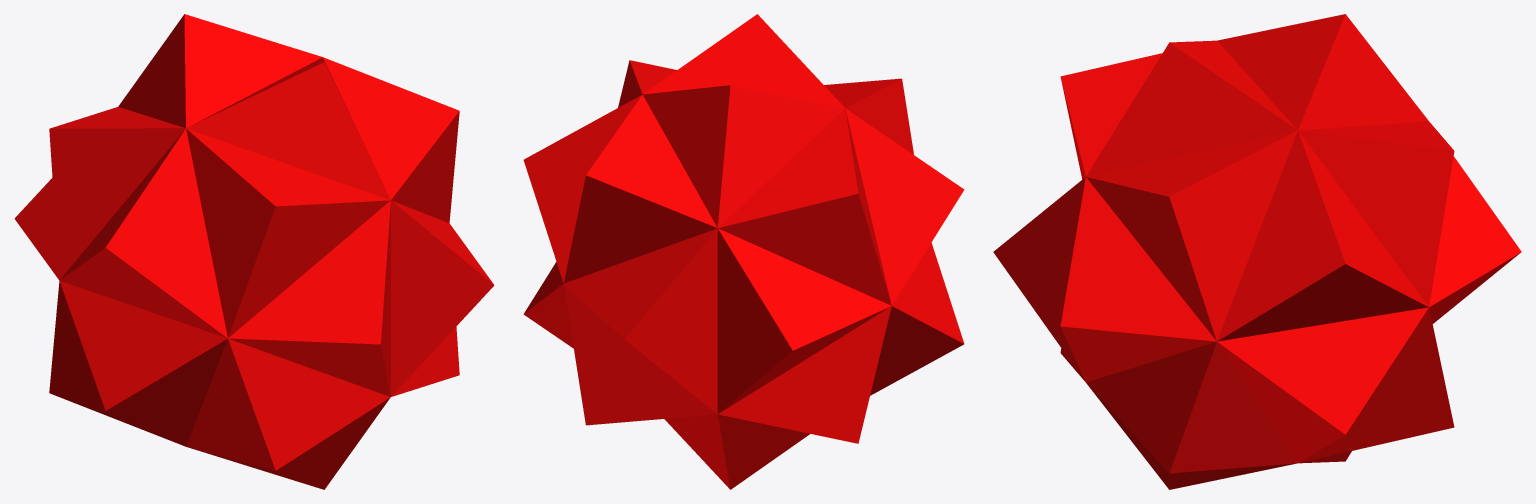
3 views of the same model, side by side, from view 1: azimuth 30°, elevation 25°; view 2: azimuth 150°, elevation 25°; view 3: azimuth 270°, elevation 25° (orthographic). The views are drawn at different scales.
Parts seen in each view (by area): view 1: Objekt_12, Objekt_19, Objekt_13, Objekt_18, Objekt_14, Objekt_10, Objekt_20, Objekt_11, Objekt_8, Objekt_9, Objekt_17, Objekt_15 (+2 smaller); view 2: Objekt_21, Objekt_20, Objekt_2, Objekt_11, Objekt_5, Objekt_17, Objekt_19, Objekt_3, Objekt_10, Objekt_18, Objekt_4, Objekt_16 (+3 smaller); view 3: Objekt_4, Objekt_9, Objekt_6, Objekt_8, Objekt_7, Objekt_5, Objekt_10, Objekt_11, Objekt_3, Objekt_2, Objekt_13, Objekt_12 (+1 smaller).
Part boxes in pixels (x1,y1,x2,y2): Objekt_12: (186, 128, 390, 337); Objekt_19: (60, 129, 227, 338); Objekt_13: (228, 200, 390, 396); Objekt_18: (59, 280, 227, 446); Objekt_14: (186, 338, 390, 470); Objekt_10: (186, 57, 390, 200); Objekt_20: (49, 107, 185, 280); Objekt_11: (118, 14, 322, 128); Objekt_8: (391, 200, 494, 396); Objekt_9: (323, 57, 459, 222); Objekt_17: (49, 281, 182, 445); Objekt_15: (190, 397, 390, 489); Objekt_21: (717, 228, 891, 413); Objekt_20: (718, 108, 891, 305); Objekt_2: (564, 228, 717, 413); Objekt_11: (642, 85, 844, 227); Objekt_5: (563, 95, 717, 283); Objekt_17: (718, 306, 891, 443); Objekt_19: (845, 108, 964, 305); Objekt_3: (563, 284, 716, 425); Objekt_10: (643, 14, 844, 107); Objekt_18: (870, 242, 964, 395); Objekt_4: (523, 95, 641, 282); Objekt_16: (664, 414, 809, 489); Objekt_4: (1217, 131, 1428, 341); Objekt_9: (1086, 130, 1297, 340); Objekt_6: (1217, 307, 1428, 462); Objekt_8: (1060, 177, 1216, 382); Objekt_7: (1086, 341, 1297, 473); Objekt_5: (1298, 121, 1454, 306); Objekt_10: (1086, 40, 1297, 176); Objekt_11: (1217, 14, 1428, 130); Objekt_3: (1298, 308, 1454, 463); Objekt_2: (1429, 156, 1521, 323); Objekt_13: (993, 177, 1085, 381); Objekt_12: (1060, 53, 1162, 179).
Size of the model in its own units: 6.76 by 7.23 by 7.74.
